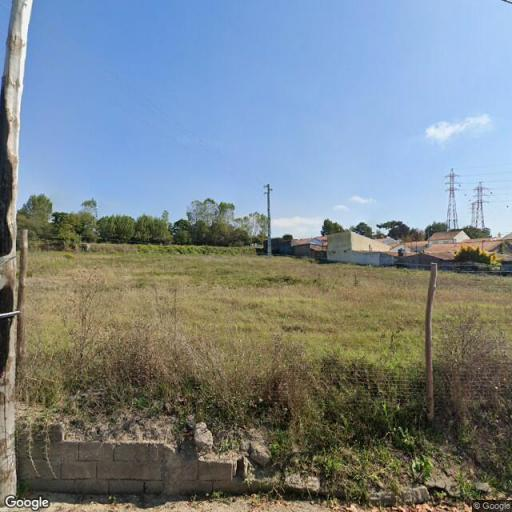mono_10: (262, 180, 276, 254)
ss_3: (444, 167, 460, 234), (471, 176, 491, 229)
